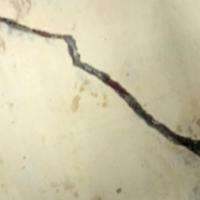crack: (1, 14, 199, 162)
